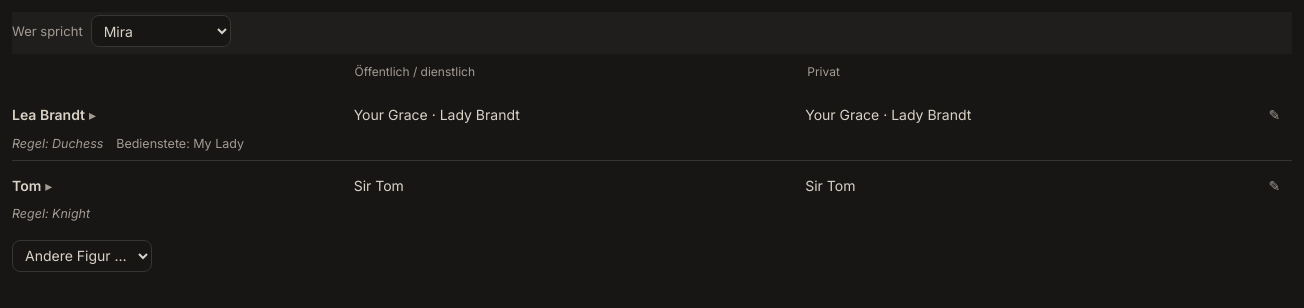
Test: Andere Figur looks up someone outside the chapter
Select "Pascal" in the dropdown named "Andere Figur" at coordinates (82, 256), box left=12, top=240, right=152, bottom=272
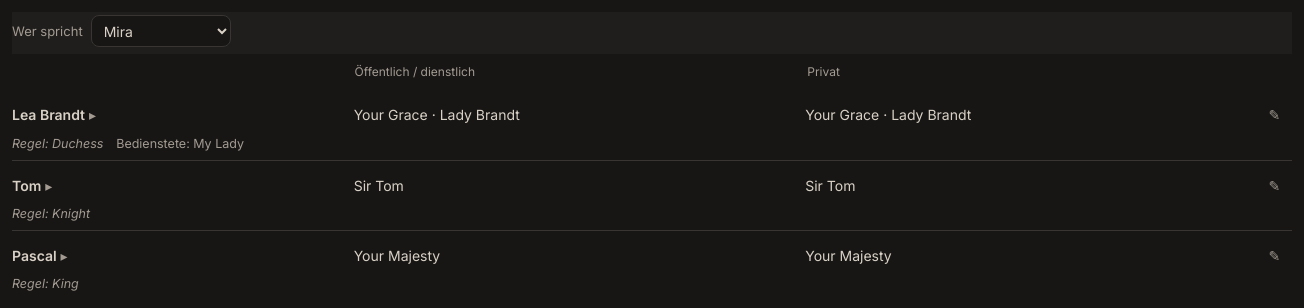
Expected: the list item "Pascal" shows "Your Majesty", left=354, top=247, right=440, bottom=264
